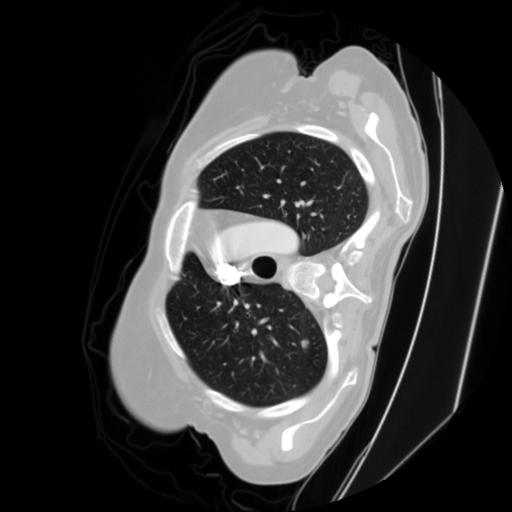nodule: (297, 337, 311, 351)
